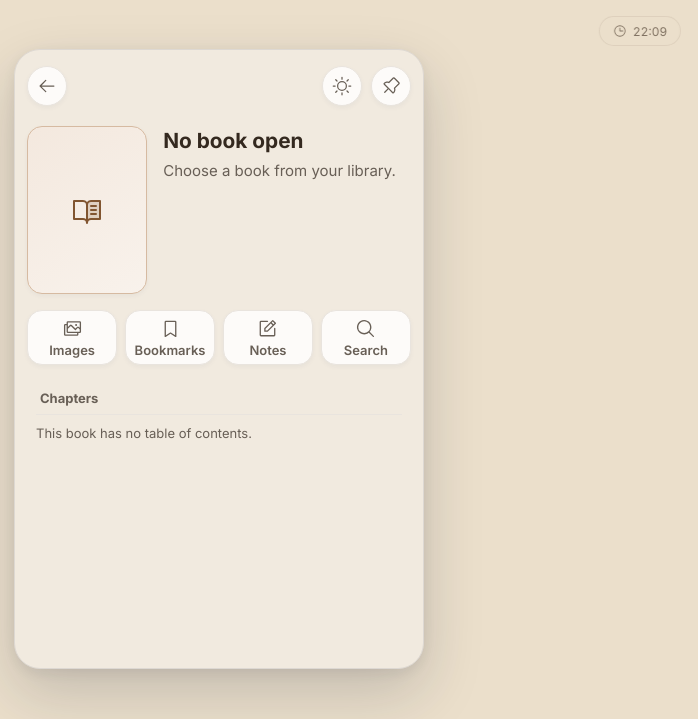
Scenario: Reader bookmarks › includes a native duplicate missing from an older list and hides capture errors
This screenshot has width=698, height=719.
What coordinates should you click on to do the following:
click the button "Bookmarks"
I would click on:
 (170, 338)
Its box is [125, 310, 215, 365].
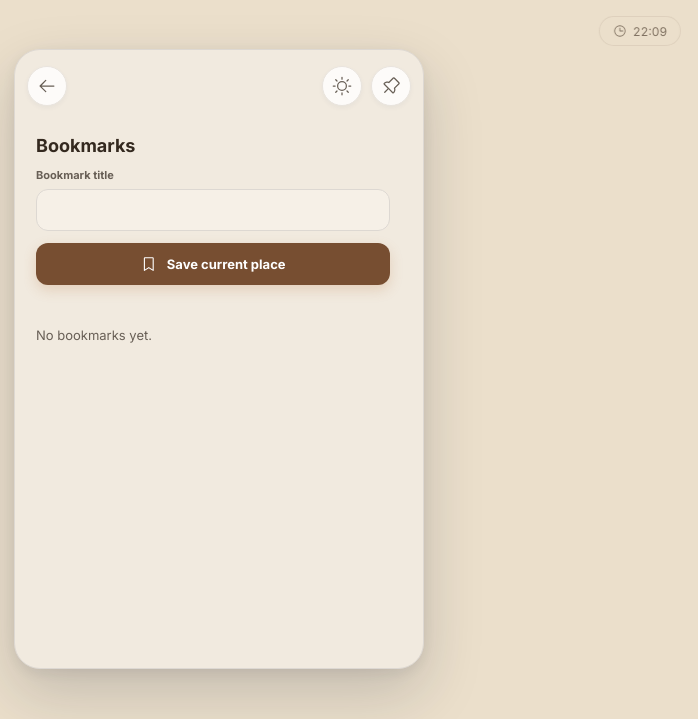
What coordinates should you click on to do the following:
click the button "Save current place"
I would click on:
 (213, 264)
Its box is [36, 243, 390, 285].
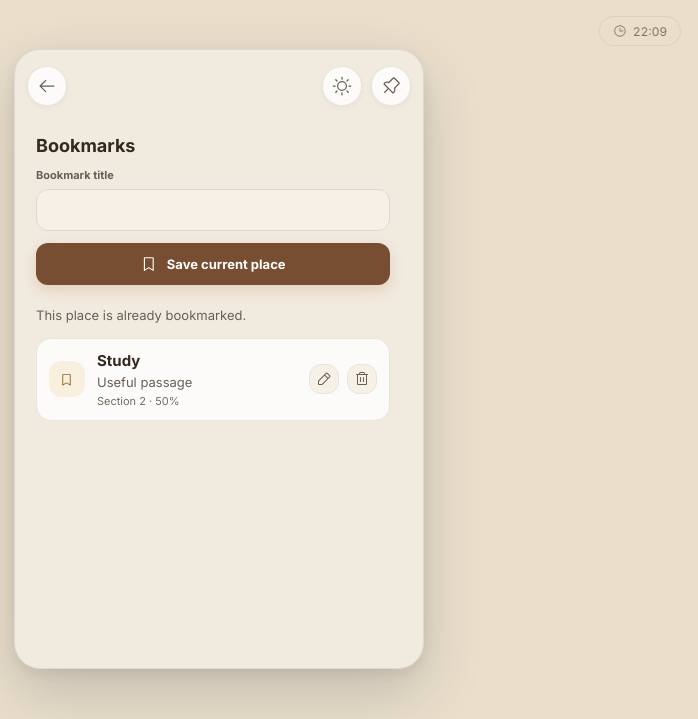
Check: the button with aria-label "Jump to Study" is shown, box [49, 351, 301, 408]
What coordinates should you click on to do the following:
click the button "Save current place"
I would click on:
 (213, 264)
Its box is [36, 243, 390, 285].
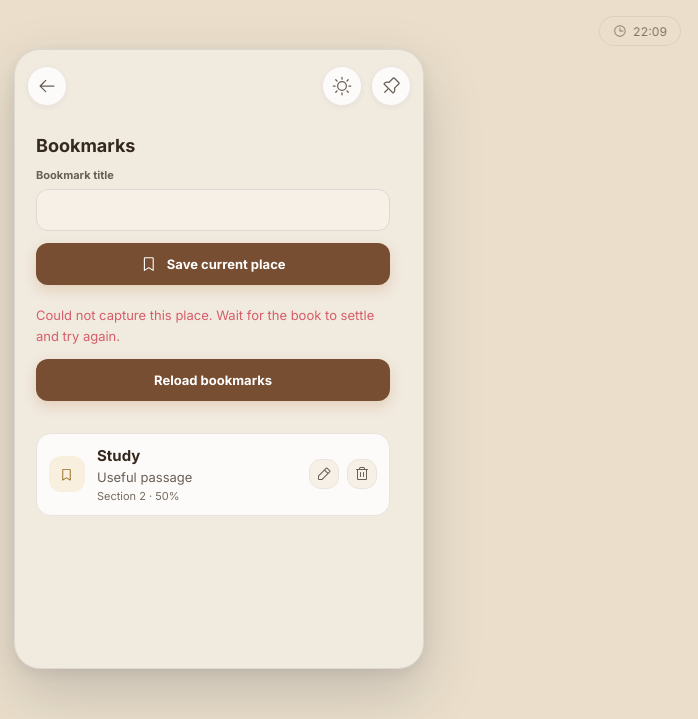
Check: the message shows "Could not capture this place", box [36, 307, 374, 344]
